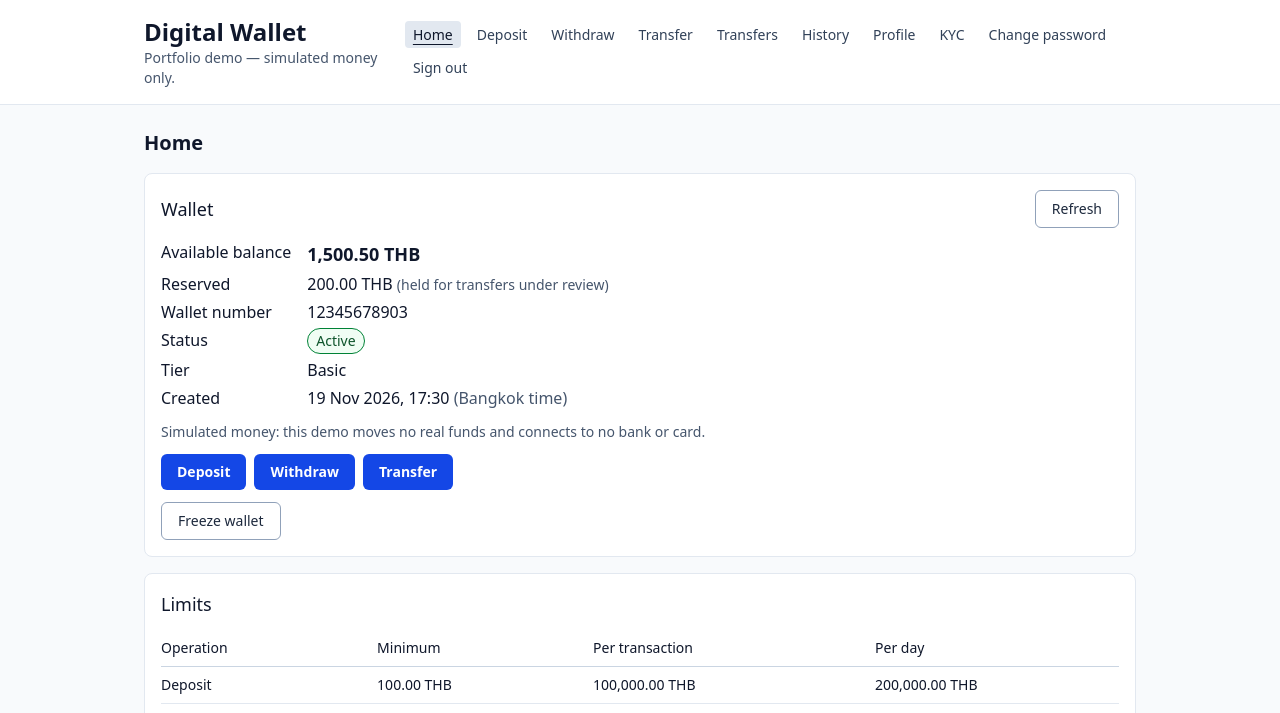
Test case: WalletDashboard › moves to KYC when the wallet disappears on refresh
Expected: the text "12345678903" is shown, top-left (307, 301), bottom-right (408, 323)
Click the button "Refresh" at (1077, 209), box top-left (1035, 190), bottom-right (1119, 228)
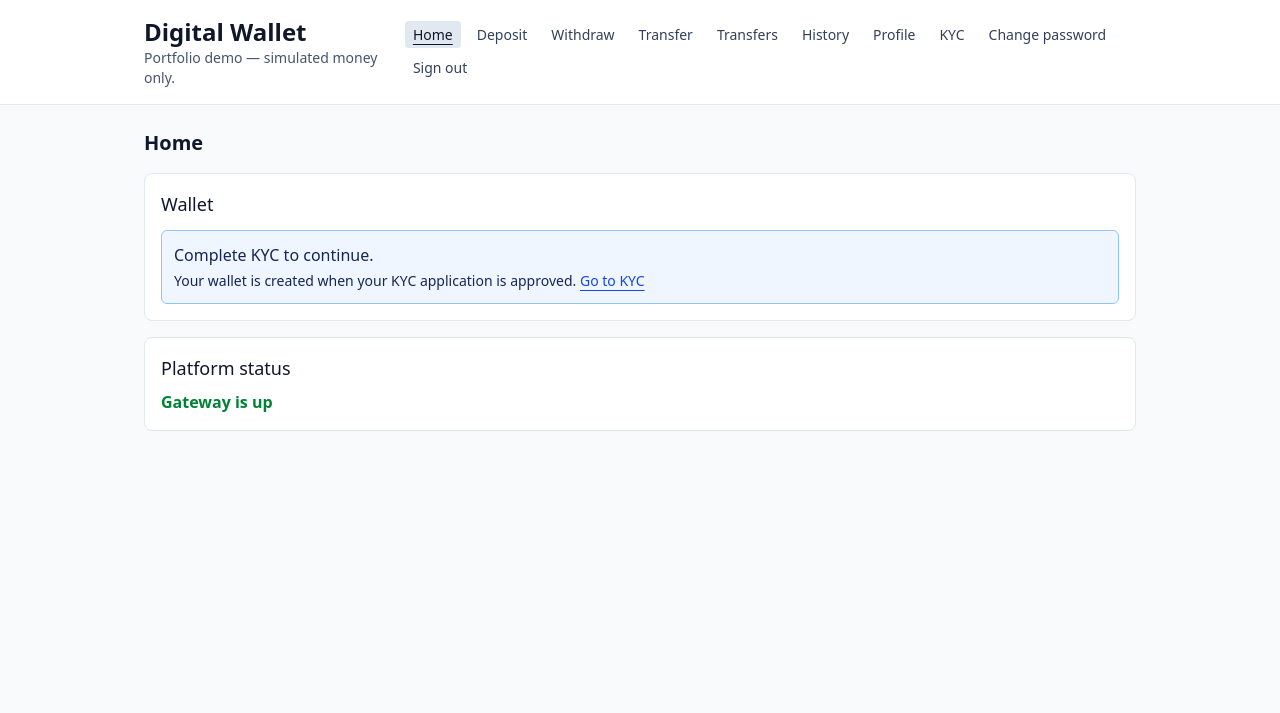
Result: the text "Complete KYC to continue." is shown at top-left (174, 244), bottom-right (374, 266)
